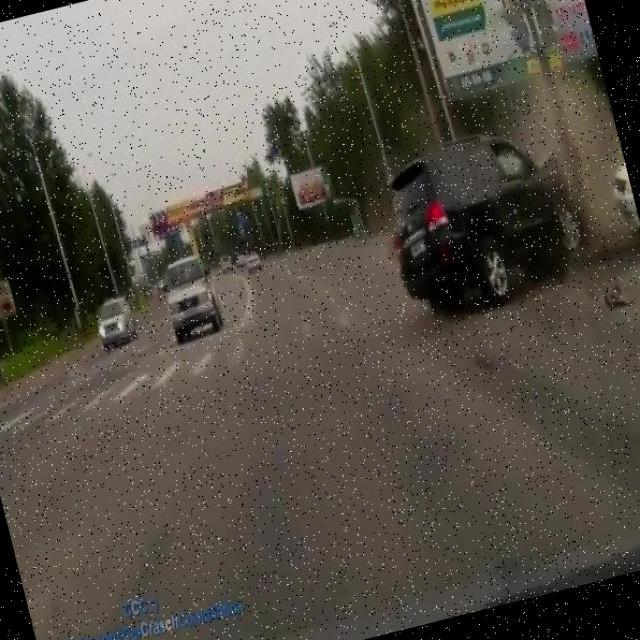accident: (365, 102, 613, 334)
